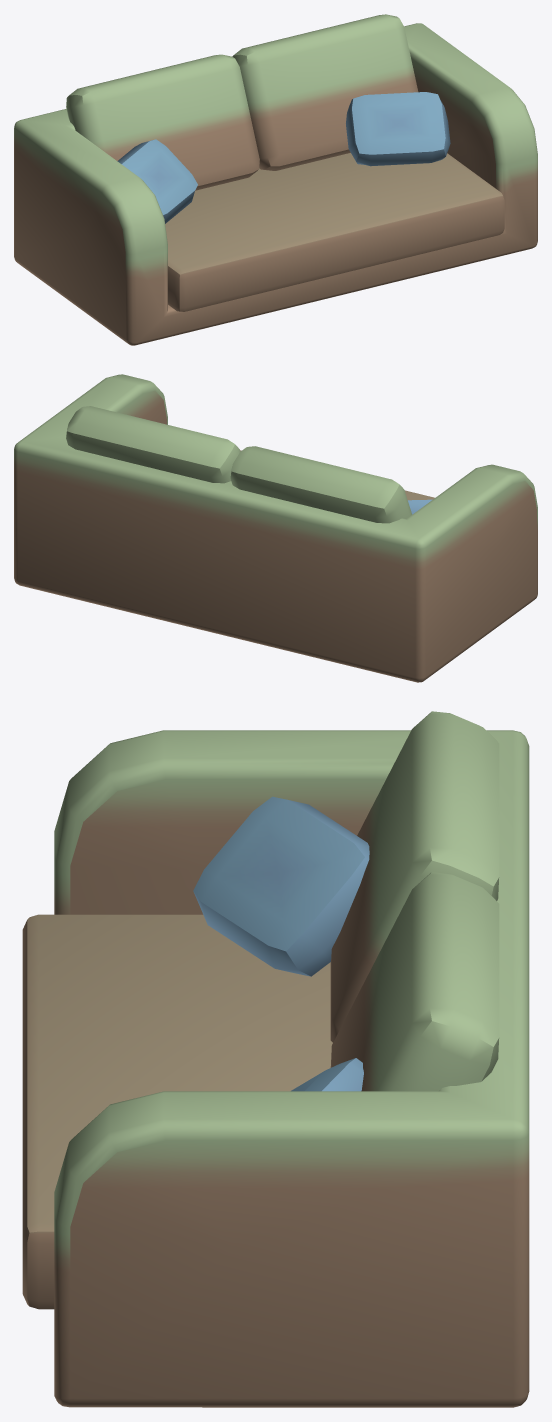
Rendered from kit_sofa.glb.
The picture shows the model from 3 angles, top to bottom: view 1: azimuth 30°, elevation 25°; view 2: azimuth 150°, elevation 25°; view 3: azimuth 270°, elevation 25°; orthographic projection. The views are drawn at different scales.
Parts seen in each view (by area): view 1: couch_pillows; view 2: couch_pillows; view 3: couch_pillows.
Part boxes in pixels (<box>): couch_pillows: <box>14,14,537,345</box>; couch_pillows: <box>14,374,537,682</box>; couch_pillows: <box>22,711,529,1407</box>.
Bounding box in the file's own units: 1.5 × 0.6133 × 0.8016.
Materials: 1 (1 with a texture image).
